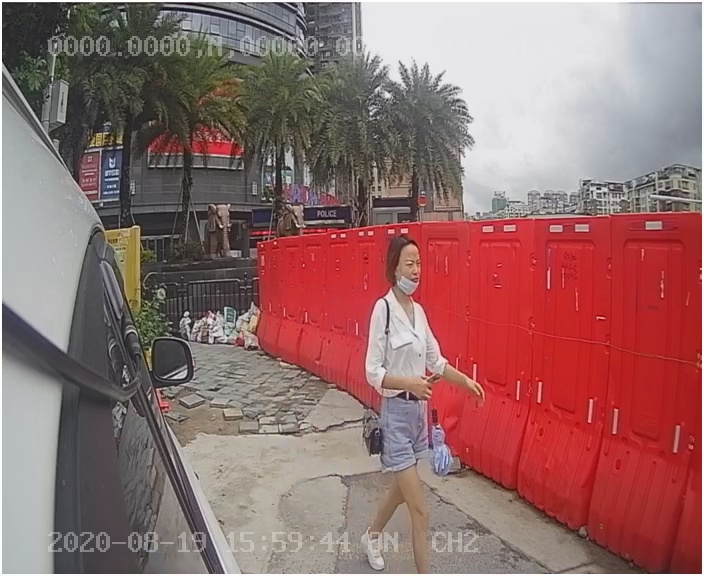person: (332, 231, 481, 531)
